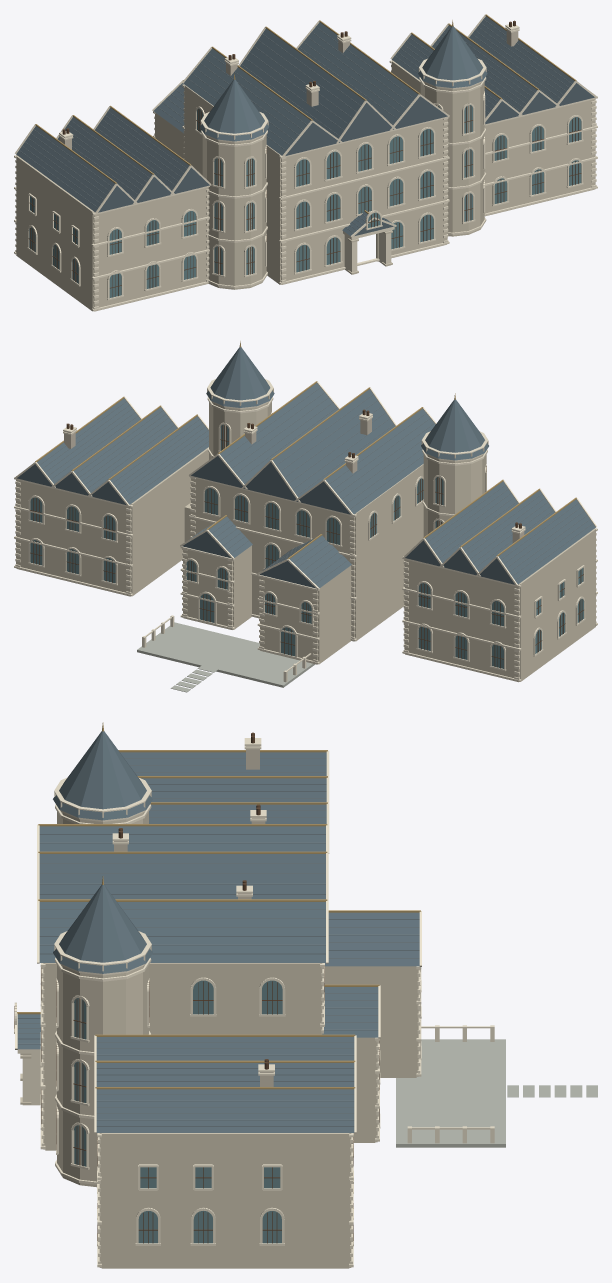
File: manor_estate.glb
The picture shows the model from 3 angles, top to bottom: view 1: azimuth 30°, elevation 25°; view 2: azimuth 150°, elevation 25°; view 3: azimuth 270°, elevation 25°; orthographic projection. The views are drawn at different scales.
Parts seen in each view (by area): view 1: Main Manor - Charcoal slate, Main Manor - Cream limestone, West Wing - Cream limestone, West Wing - Charcoal slate, Main Manor - Carved ivory, East Wing - Cream limestone, East Wing - Charcoal slate, West Tower - Cream limestone, Main Manor - Blue grey window glass, East Tower - Cream limestone, West Wing - Carved ivory, East Wing - Carved ivory (+21 smaller); view 2: Main Manor - Charcoal slate, West Wing - Cream limestone, East Wing - Cream limestone, Main Manor - Cream limestone, East Wing - Charcoal slate, West Wing - Charcoal slate, Rear Manor - Cream limestone, Rear Manor - Terrace paving, West Wing - Carved ivory, Rear Manor - Charcoal slate, Rear Manor - Carved ivory, Main Manor - Carved ivory (+22 smaller); view 3: Main Manor - Charcoal slate, East Wing - Cream limestone, East Wing - Charcoal slate, Main Manor - Cream limestone, West Wing - Charcoal slate, Rear Manor - Terrace paving, East Tower - Cream limestone, Rear Manor - Charcoal slate, Rear Manor - Cream limestone, East Tower - Charcoal slate, West Tower - Charcoal slate, Main Manor - Carved ivory (+16 smaller).
Part boxes in pixels (x1,y1,x2,y2): Main Manor - Charcoal slate: (183, 22, 447, 236); Main Manor - Cream limestone: (184, 85, 447, 284); West Wing - Cream limestone: (16, 155, 208, 311); West Wing - Charcoal slate: (16, 108, 209, 212); Main Manor - Carved ivory: (182, 21, 449, 284); East Wing - Cream limestone: (391, 60, 595, 216); East Wing - Charcoal slate: (392, 16, 594, 124); West Tower - Cream limestone: (202, 135, 266, 289); Main Manor - Blue grey window glass: (197, 108, 433, 272); East Tower - Cream limestone: (420, 81, 484, 236); West Wing - Carved ivory: (14, 106, 211, 311); East Wing - Carved ivory: (389, 15, 597, 215); Main Manor - Charcoal slate: (191, 383, 435, 514); West Wing - Cream limestone: (404, 528, 595, 682); East Wing - Cream limestone: (16, 447, 208, 596); Main Manor - Cream limestone: (191, 464, 423, 641); East Wing - Charcoal slate: (17, 398, 208, 504); West Wing - Charcoal slate: (405, 482, 595, 584); Rear Manor - Cream limestone: (183, 545, 351, 664); Rear Manor - Terrace paving: (137, 622, 314, 692); West Wing - Carved ivory: (402, 480, 597, 681); Rear Manor - Charcoal slate: (182, 516, 351, 588); Rear Manor - Carved ivory: (142, 529, 319, 682); Main Manor - Carved ivory: (189, 381, 436, 641); Main Manor - Charcoal slate: (17, 826, 325, 1049); East Wing - Cream limestone: (99, 1133, 351, 1268); East Wing - Charcoal slate: (96, 1037, 354, 1132); Main Manor - Cream limestone: (20, 963, 322, 1150); West Wing - Charcoal slate: (120, 752, 326, 823); Rear Manor - Terrace paving: (396, 1039, 597, 1147); East Tower - Cream limestone: (57, 964, 148, 1187); Rear Manor - Charcoal slate: (322, 912, 419, 1037); Rear Manor - Cream limestone: (325, 966, 418, 1142); East Tower - Charcoal slate: (53, 884, 152, 973); West Tower - Charcoal slate: (53, 731, 152, 820); Main Manor - Carved ivory: (14, 810, 328, 1149).
Size of the model in its own units: 61.26 by 23.83 by 42.44.
